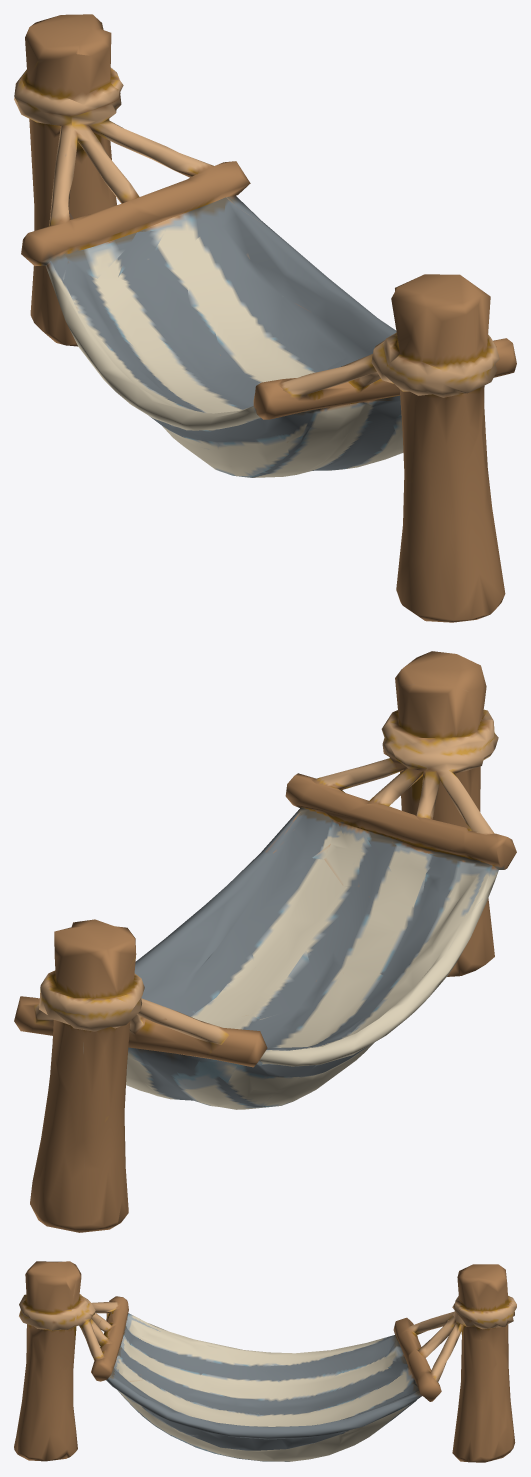
File: f-hammock.glb
3 views of the same model, one above another, from view 1: azimuth 30°, elevation 25°; view 2: azimuth 150°, elevation 25°; view 3: azimuth 270°, elevation 25° (orthographic). The views are drawn at different scales.
Parts seen in each view (by area): view 1: tripo_node_0db34b3e-3202-47fb-97ce-a32053b6c8bb; view 2: tripo_node_0db34b3e-3202-47fb-97ce-a32053b6c8bb; view 3: tripo_node_0db34b3e-3202-47fb-97ce-a32053b6c8bb.
Boxes of the visible parts, bbox=[...] form: tripo_node_0db34b3e-3202-47fb-97ce-a32053b6c8bb: bbox=[14, 14, 516, 622]; tripo_node_0db34b3e-3202-47fb-97ce-a32053b6c8bb: bbox=[14, 651, 516, 1232]; tripo_node_0db34b3e-3202-47fb-97ce-a32053b6c8bb: bbox=[14, 1261, 516, 1462].
Bounding box in the file's own units: 0.3727 × 0.4045 × 1.
1 material, 1 textured.
